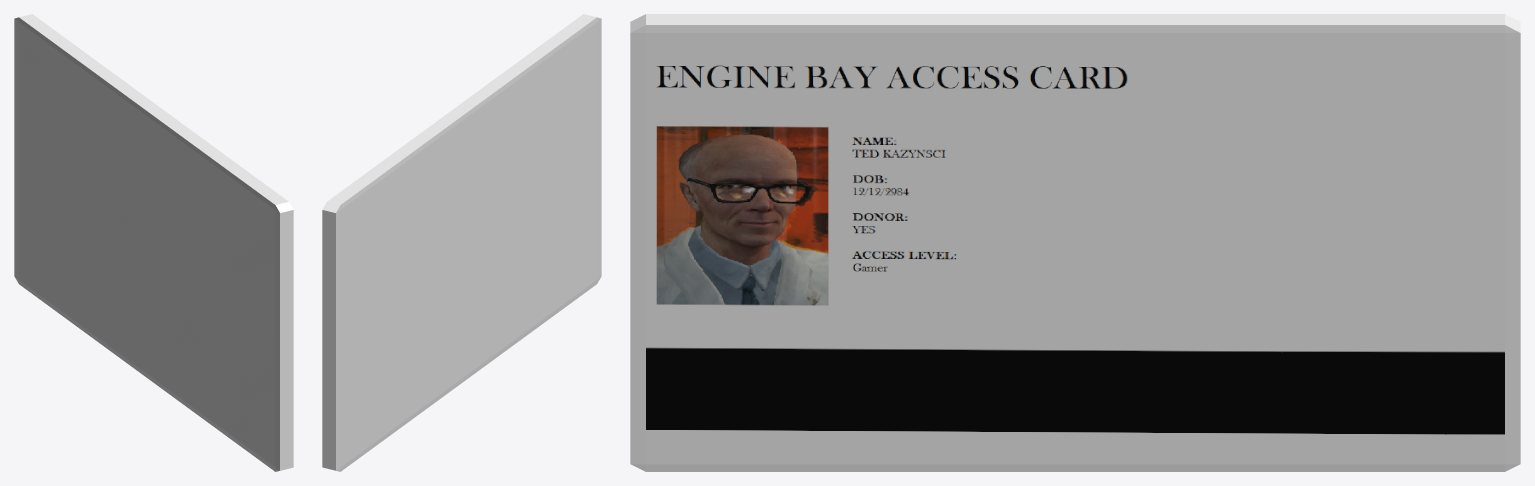
The model's file is card.fbx.
3 renders of one model, left to right at view 1: azimuth 30°, elevation 25°; view 2: azimuth 150°, elevation 25°; view 3: azimuth 270°, elevation 25°, orthographic. The views are drawn at different scales.
Visible parts, largest first — view 1: Cube; view 2: Cube; view 3: Cube.
Part boxes in pixels (box(x1,y1,x2,y2)): Cube: box(14, 14, 293, 471); Cube: box(322, 14, 601, 471); Cube: box(630, 14, 1520, 471).
Size of the model in its own units: 36.02 by 652 by 1177.
